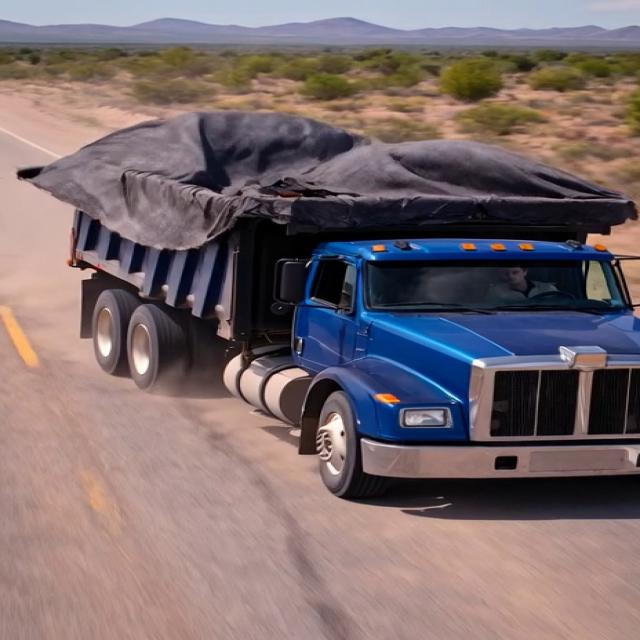Box: (17, 108, 637, 227)
Truck: (5, 62, 628, 502)
